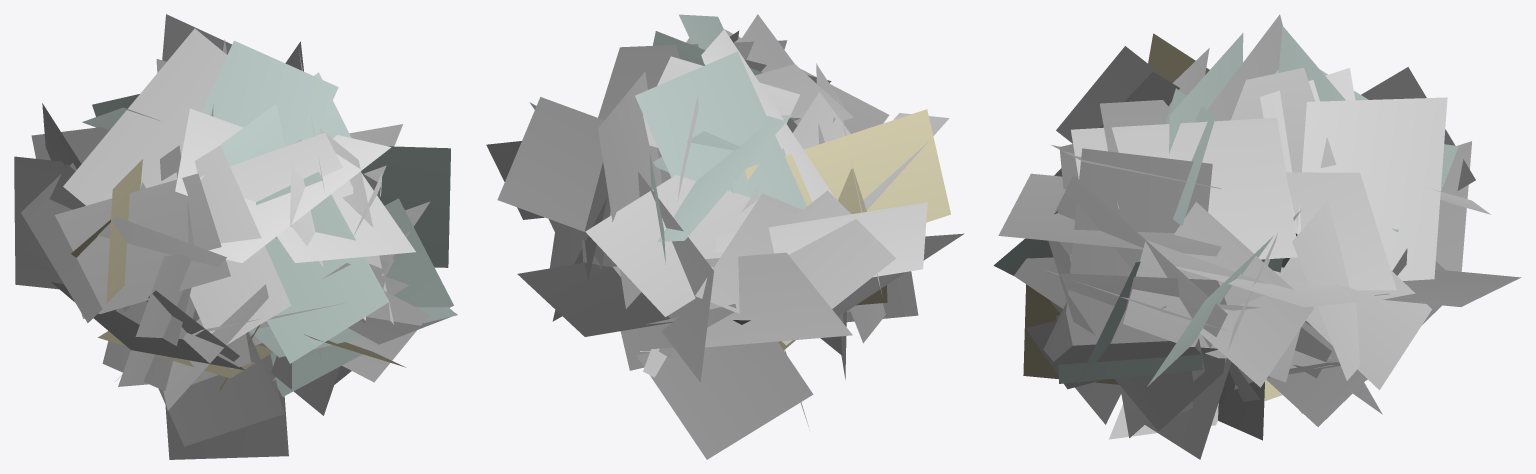
Rendered from yard-shrub-lite.lod0.glb.
3 views of the same model, side by side, from view 1: azimuth 30°, elevation 25°; view 2: azimuth 150°, elevation 25°; view 3: azimuth 270°, elevation 25° (orthographic). The views are drawn at different scales.
Visible parts, largest first — view 1: yard-shrub-lite; view 2: yard-shrub-lite; view 3: yard-shrub-lite.
Boxes of the visible parts, x1,y1,x2,y2 form: yard-shrub-lite: (14, 14, 457, 459); yard-shrub-lite: (486, 14, 964, 459); yard-shrub-lite: (993, 14, 1521, 459).
Bounding box in the file's own units: 0.6688 × 0.6224 × 0.6762.
